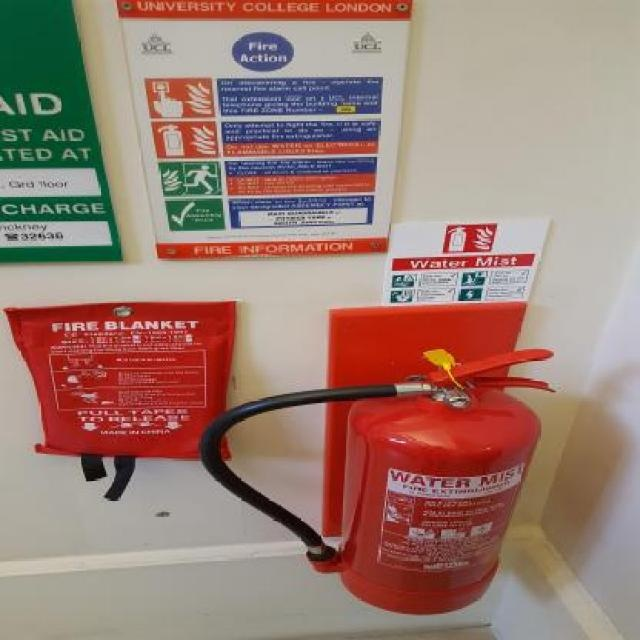fire extinguisher: (199, 349, 553, 614)
